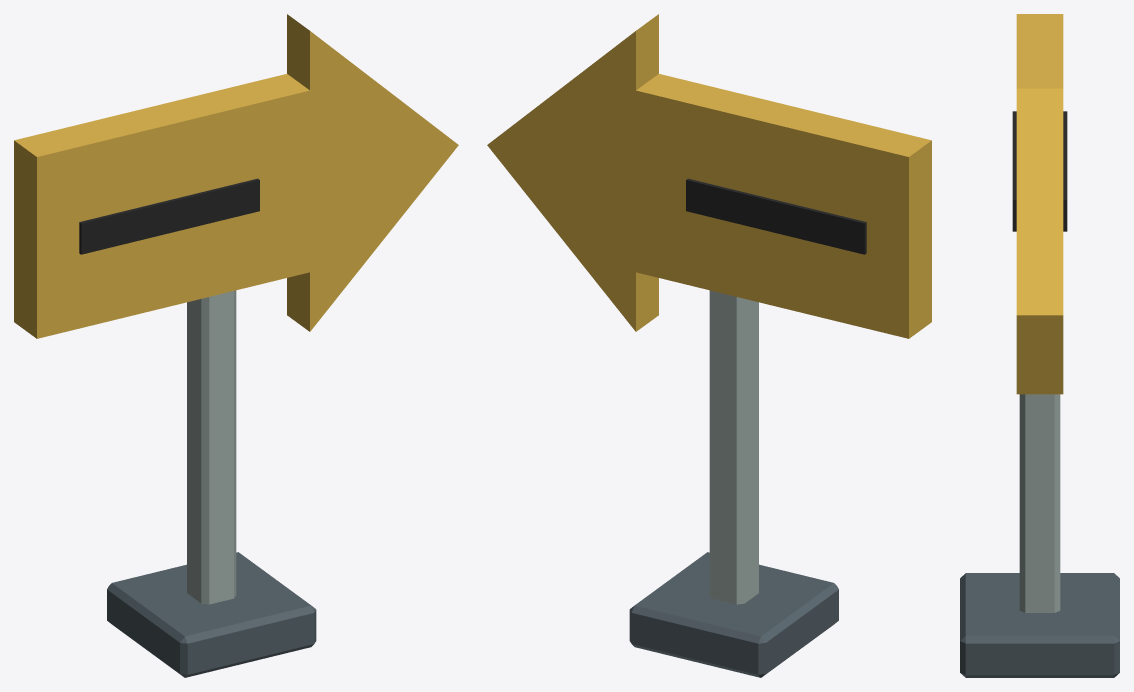
The model's file is route_sign.glb.
3 views of the same model, side by side, from view 1: azimuth 30°, elevation 25°; view 2: azimuth 150°, elevation 25°; view 3: azimuth 270°, elevation 25° (orthographic).
Parts seen in each view (by area): view 1: Keep_Mesh; view 2: Keep_Mesh; view 3: Keep_Mesh.
Part boxes in pixels (x1=…): Keep_Mesh: x1=14, y1=14, x2=458, y2=677; Keep_Mesh: x1=487, y1=14, x2=931, y2=677; Keep_Mesh: x1=960, y1=14, x2=1119, y2=677.
Size of the model in its own units: 1.7 by 2.28 by 0.55.
